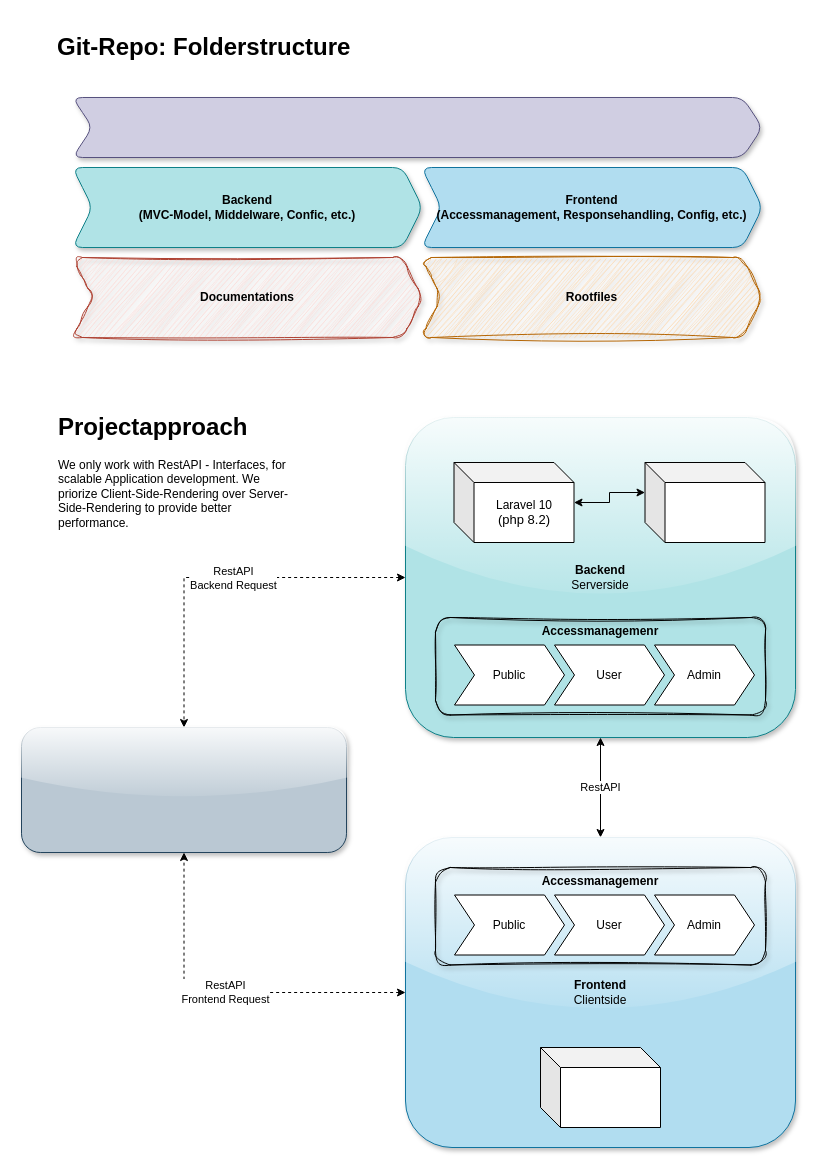
Some shapes in this 819 by 1172 pixel diagram are drawn without their labels. Here are the shapes that lost their labels. From the top down, the centre of each, then its label:
(418,128): Root-Folder
(704,502): Database PGVector
(184,791): 3. Party Services
(600,1087): Vue 3 / Quasar Framework
